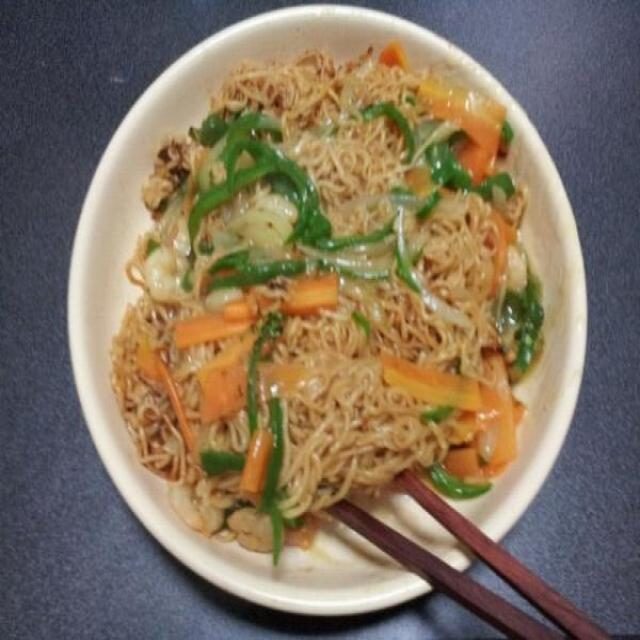面条主食: (48, 0, 604, 640)
